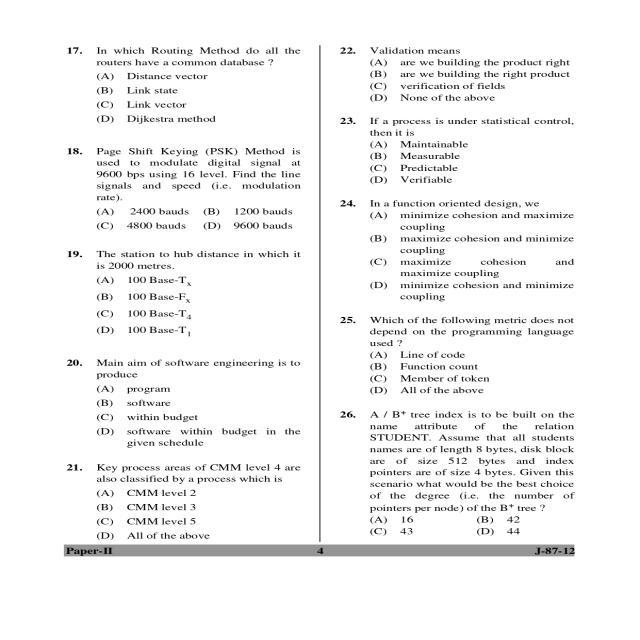Answer_Block: (334, 210, 581, 306), (56, 272, 313, 342), (55, 380, 312, 450), (55, 69, 312, 126), (55, 486, 314, 540), (334, 58, 582, 109), (336, 138, 580, 184), (337, 350, 581, 396), (336, 513, 580, 541), (56, 205, 313, 231)
Question_Answer_Block: (336, 404, 582, 541), (334, 194, 580, 306), (55, 242, 314, 342), (56, 354, 313, 452), (56, 143, 314, 232), (55, 39, 314, 126), (55, 460, 314, 540), (336, 312, 580, 396), (337, 114, 580, 184), (336, 40, 582, 108)
Question_Block: (336, 403, 582, 512), (55, 142, 312, 204), (336, 312, 581, 350), (55, 39, 312, 68), (54, 244, 314, 272), (55, 460, 315, 486), (56, 354, 314, 380), (337, 115, 581, 138), (334, 40, 582, 56), (334, 194, 580, 210)
Question_Paper_Area: (56, 39, 314, 540), (336, 39, 582, 540)
